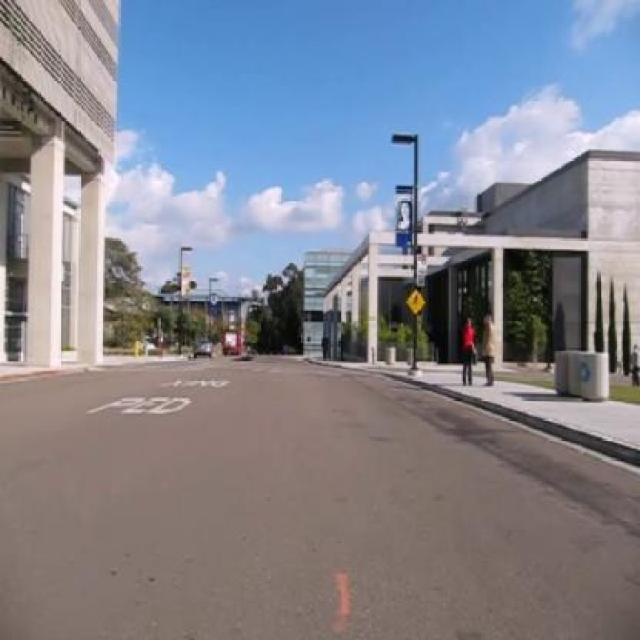pedestrianCrossing: (404, 286, 426, 316)
